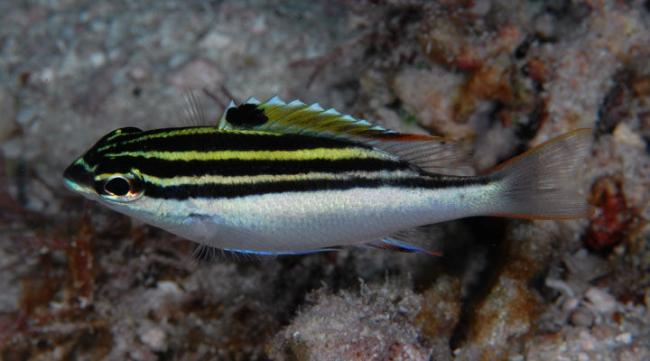fish: (62, 95, 592, 257)
